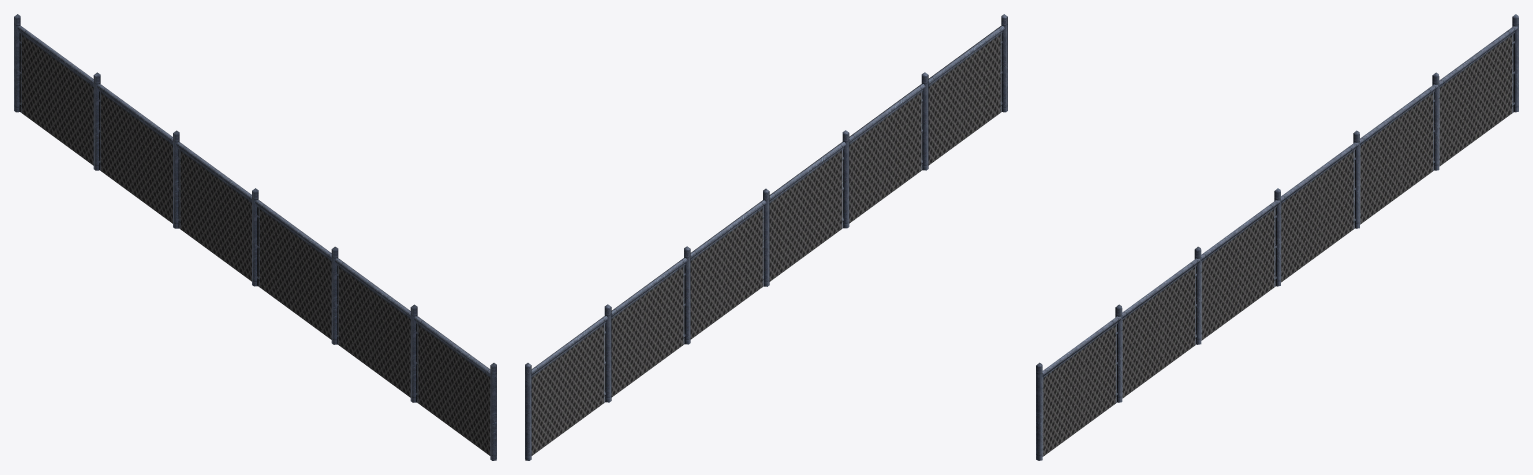
File: OPFC02.glb
3 renders of one model, left to right at view 1: azimuth 30°, elevation 25°; view 2: azimuth 150°, elevation 25°; view 3: azimuth 330°, elevation 25°, orthographic.
Visible parts, largest first — view 1: _OPFC02; view 2: _OPFC02; view 3: _OPFC02.
Boxes of the visible parts, x1=… form: _OPFC02: x1=14, y1=14, x2=496, y2=460; _OPFC02: x1=525, y1=14, x2=1007, y2=460; _OPFC02: x1=1036, y1=14, x2=1518, y2=460.
Bounding box in the file's own units: 0.0724 × 1.18 × 10.57.
2 materials, 2 textured.
